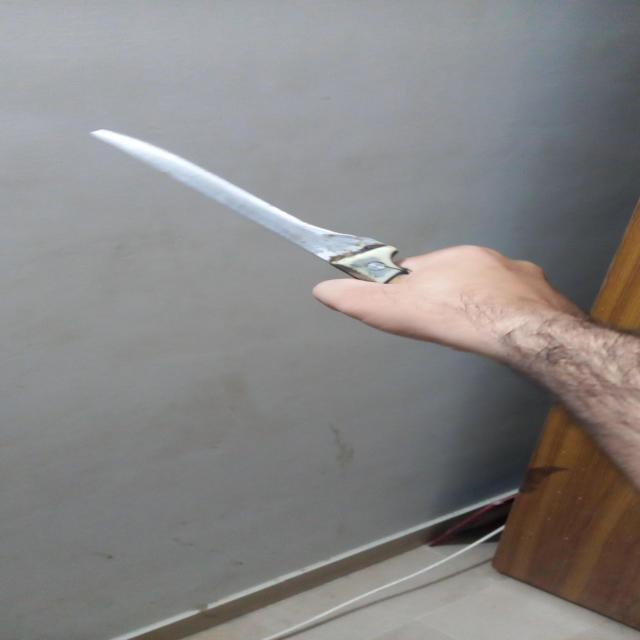weapon: (90, 131, 412, 285)
